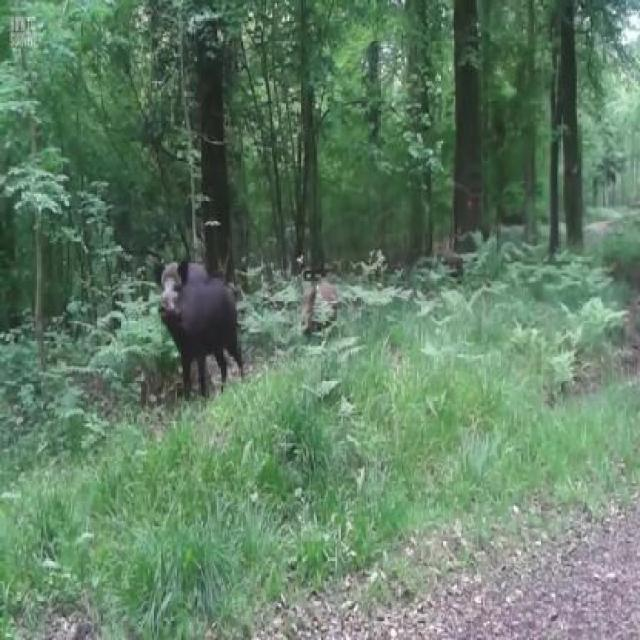Boar: (142, 248, 262, 382)
